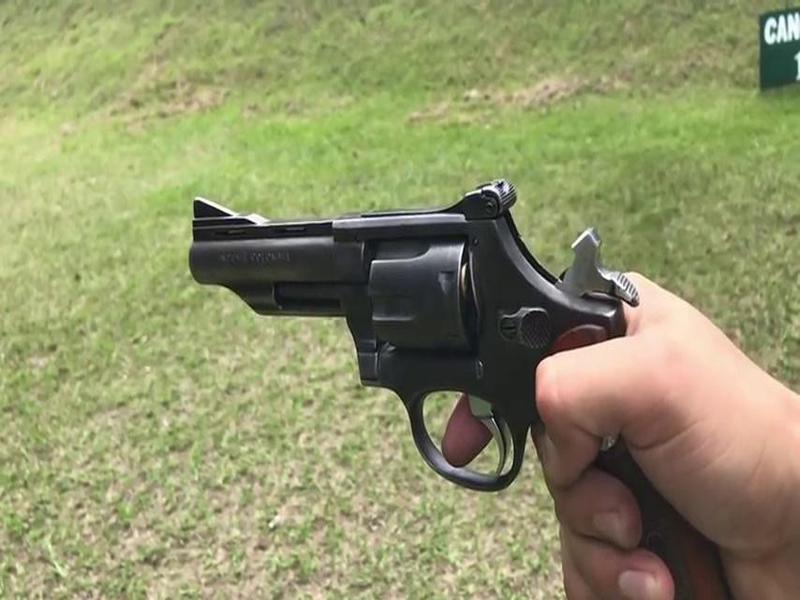Revolver: (162, 172, 663, 524)
